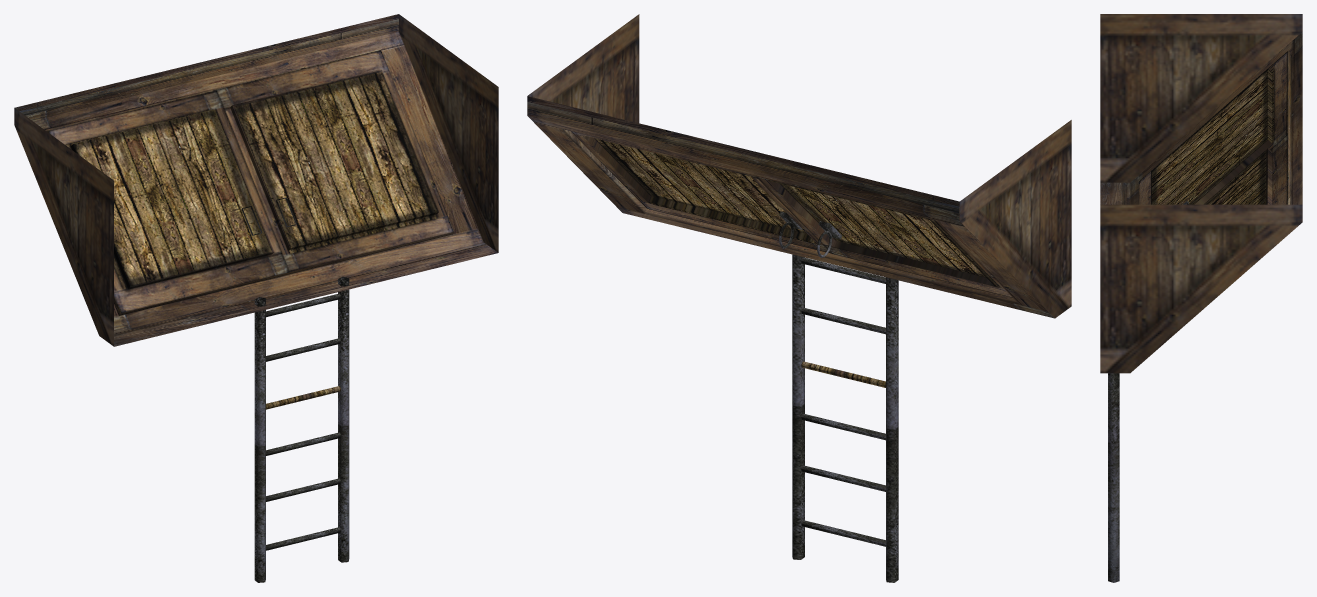
File: cellarExit.fbx
3 renders of one model, left to right at view 1: azimuth 30°, elevation 25°; view 2: azimuth 150°, elevation 25°; view 3: azimuth 270°, elevation 25°, orthographic. The views are drawn at different scales.
Visible parts, largest first — view 1: polySurface1942; view 2: polySurface1942; view 3: polySurface1942.
Boxes of the visible parts, x1=… form: polySurface1942: x1=14, y1=14, x2=498, y2=582; polySurface1942: x1=527, y1=14, x2=1071, y2=582; polySurface1942: x1=1100, y1=14, x2=1302, y2=582.
Size of the model in its own units: 277 by 304 by 124.
